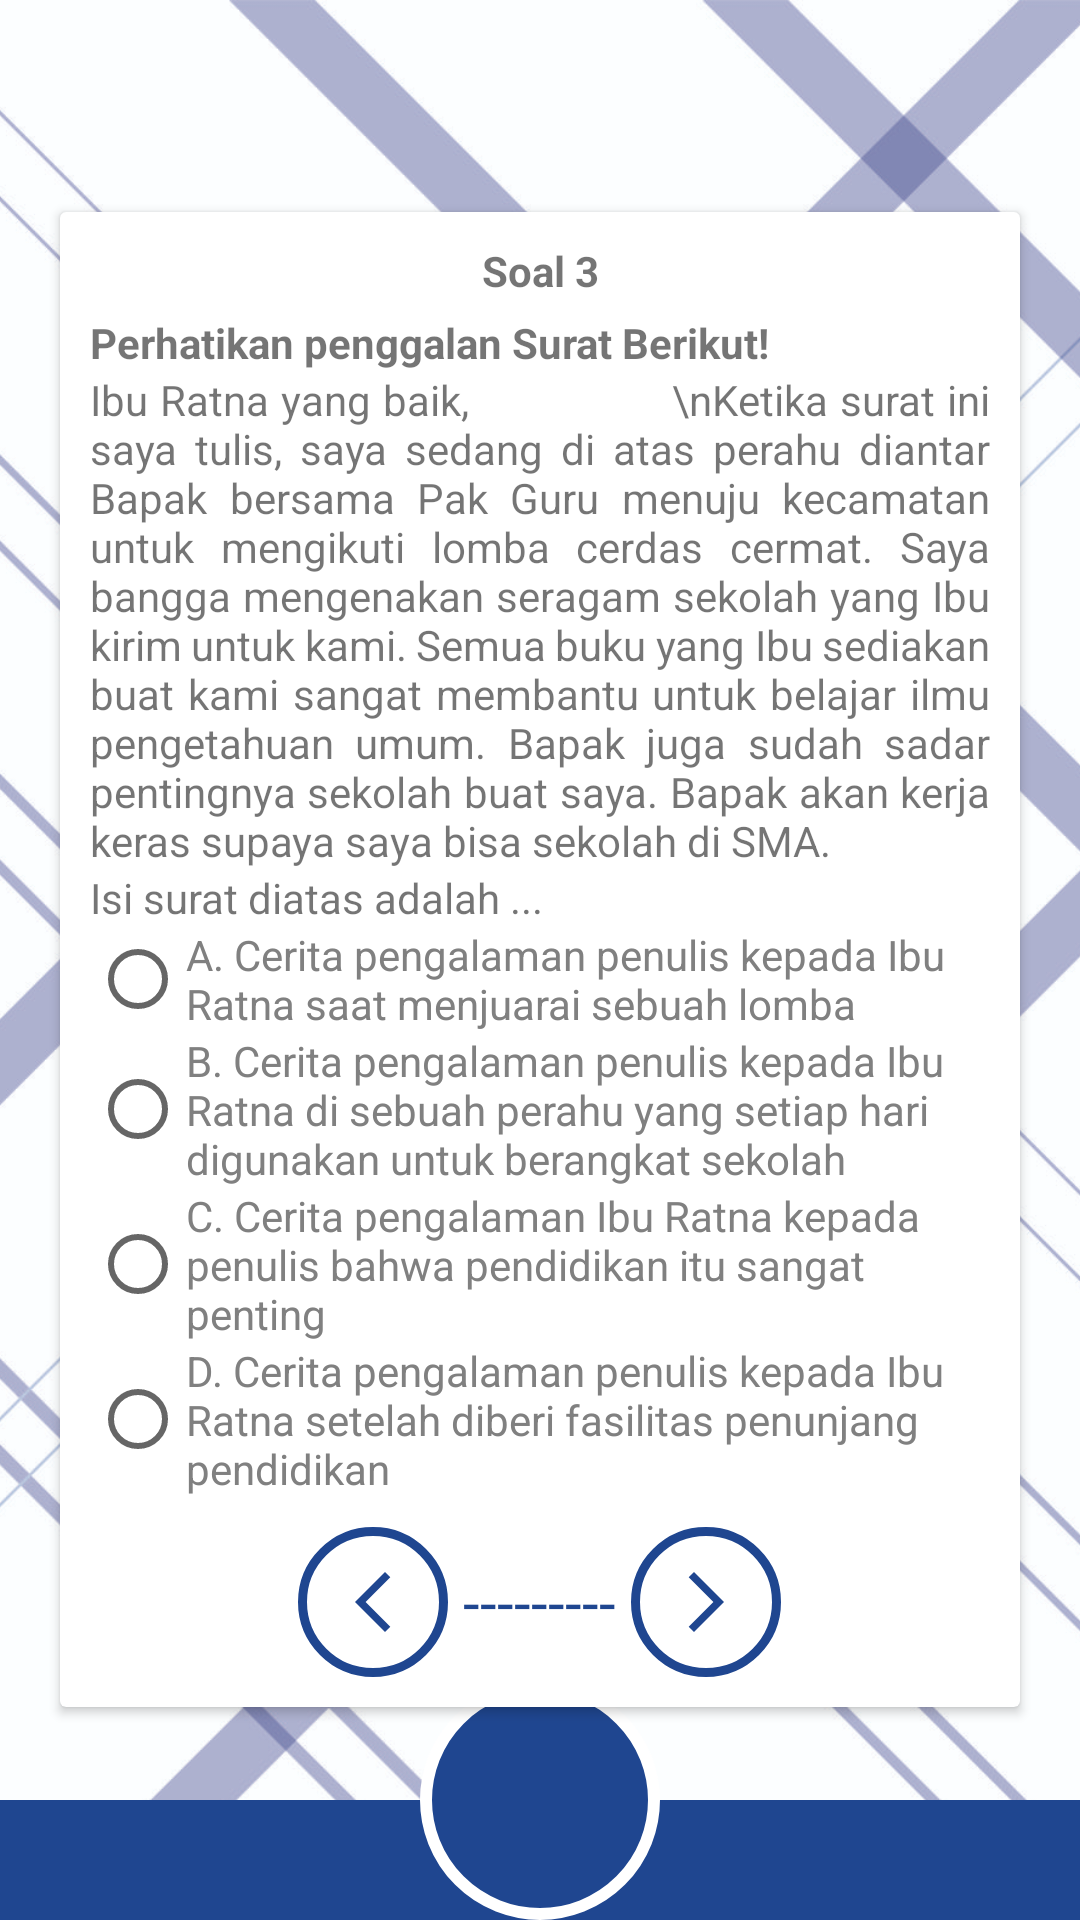

Icon click points for this 1080x1920 phone screenshot, format (x=x, y=y):
arrow back: (x=373, y=1602)
arrow forward: (x=706, y=1602)
